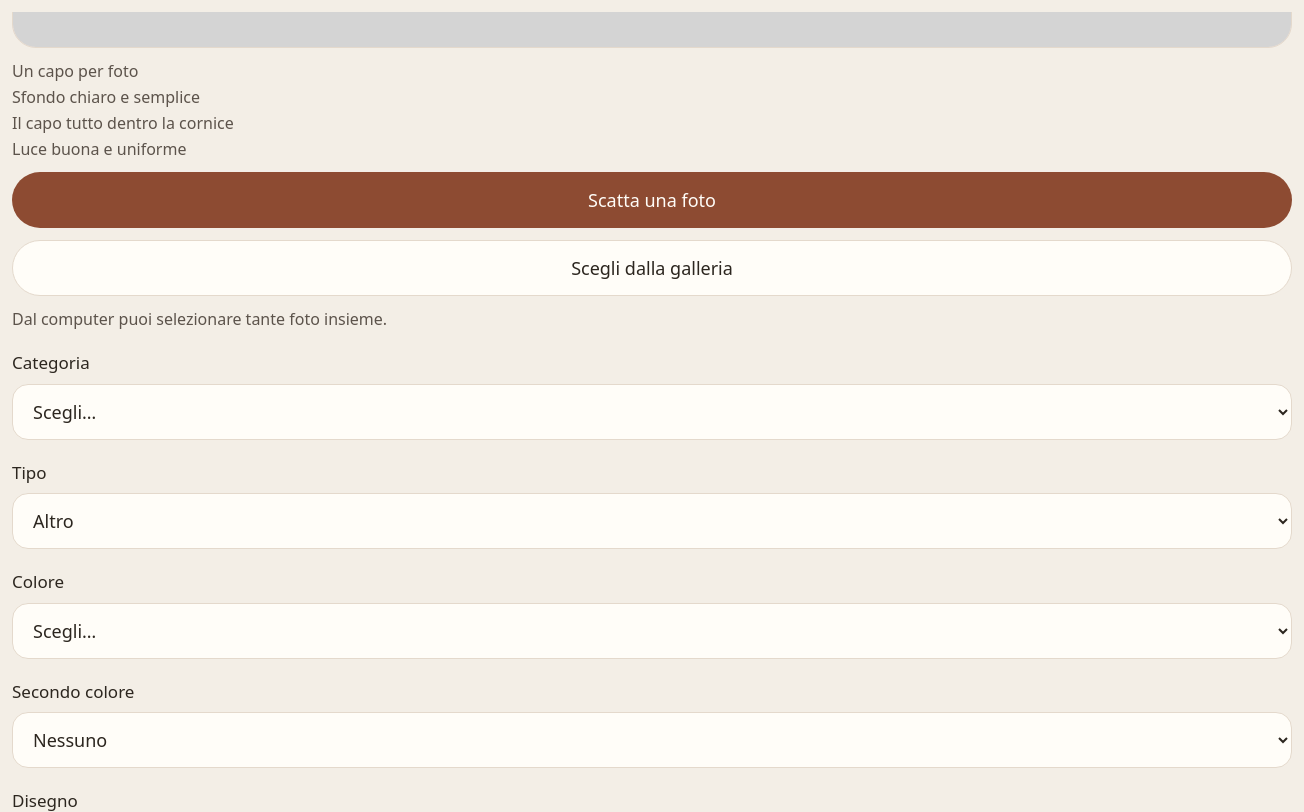
guardaroba › non sovrascrive categoria e colore se li hai già cambiati
This screenshot has width=1304, height=812.
Earlier steps of the test are not shown.
(page scrolled)
Select "Giacca" in the dropdown labelled "Categoria": (652, 412) [12, 384, 1292, 440]
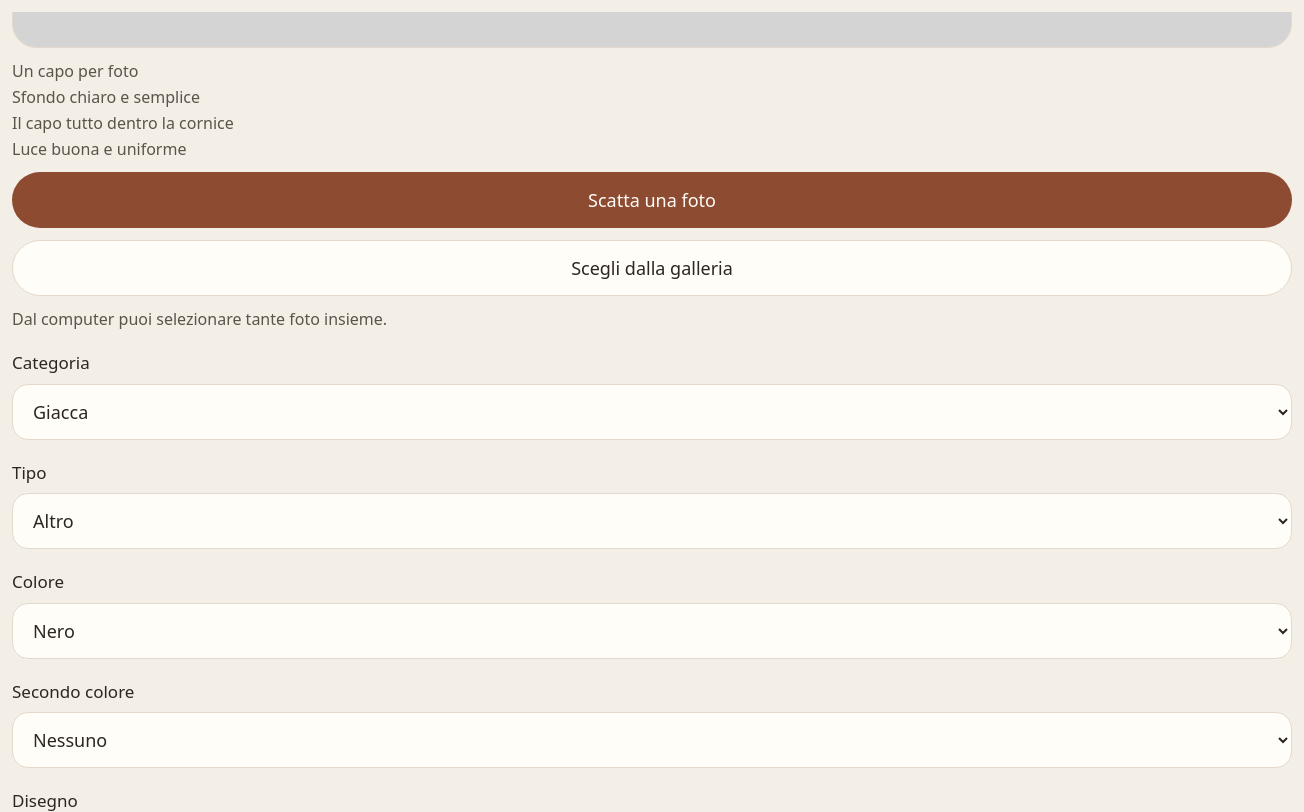
Expected: the dropdown labelled "Colore" shows "Nero", [12, 602, 1292, 658]
